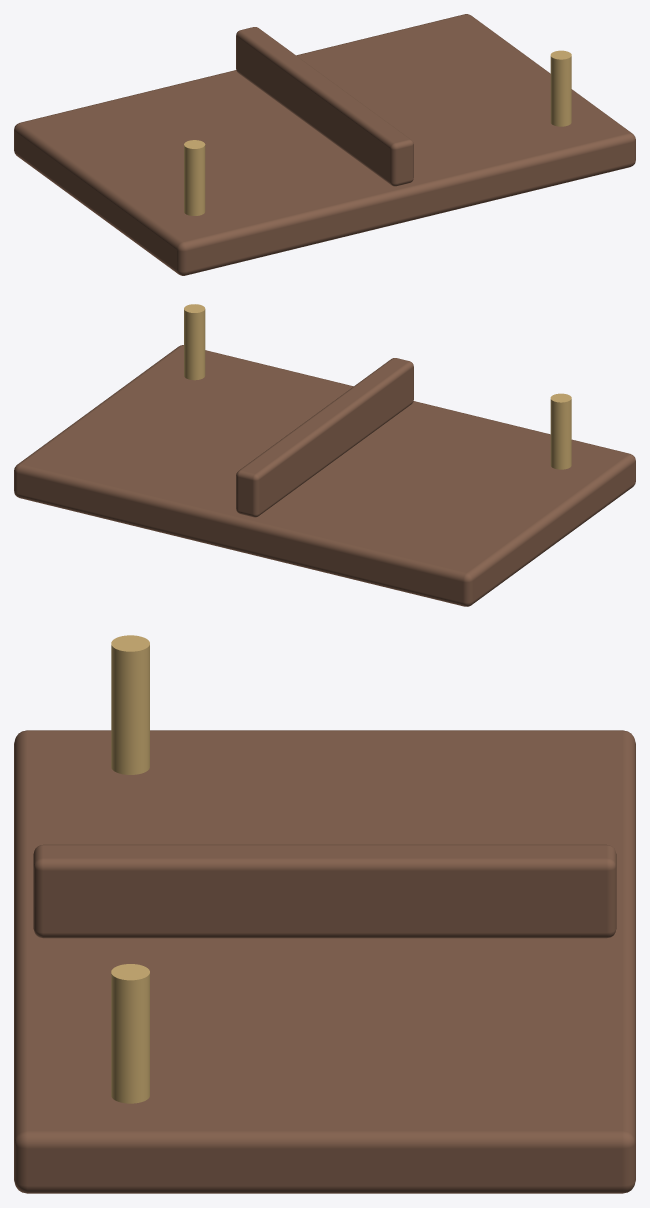
File: griffin-airmail-roost-and-posthouse-parcel-tying-jig-08280c91__30525.glb
The picture shows the model from 3 angles, top to bottom: view 1: azimuth 30°, elevation 25°; view 2: azimuth 150°, elevation 25°; view 3: azimuth 270°, elevation 25°; orthographic projection. The views are drawn at different scales.
Parts seen in each view (by area): view 1: parcel-tying-jig; view 2: parcel-tying-jig; view 3: parcel-tying-jig.
Boxes of the visible parts, left/top/right/bottom form: parcel-tying-jig: left=14, top=14, right=635, bottom=275; parcel-tying-jig: left=14, top=304, right=635, bottom=606; parcel-tying-jig: left=14, top=635, right=635, bottom=1193.
Bounding box in the file's own units: 0.5 × 0.105 × 0.32.
